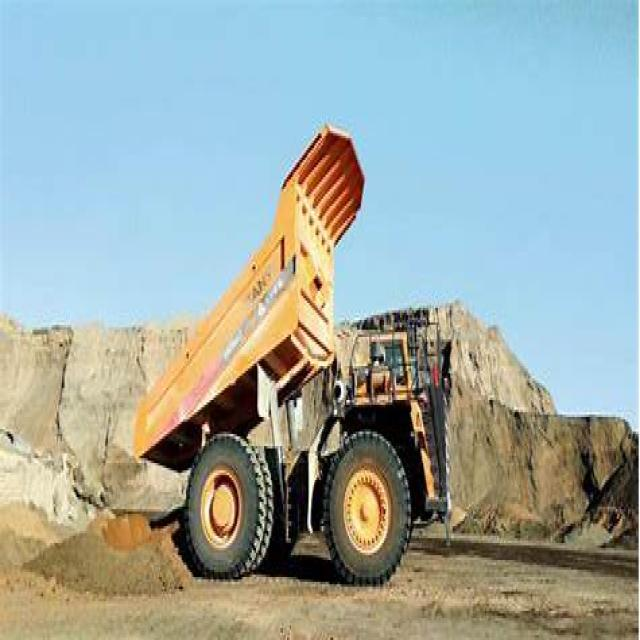dump_truck: (122, 102, 456, 599)
